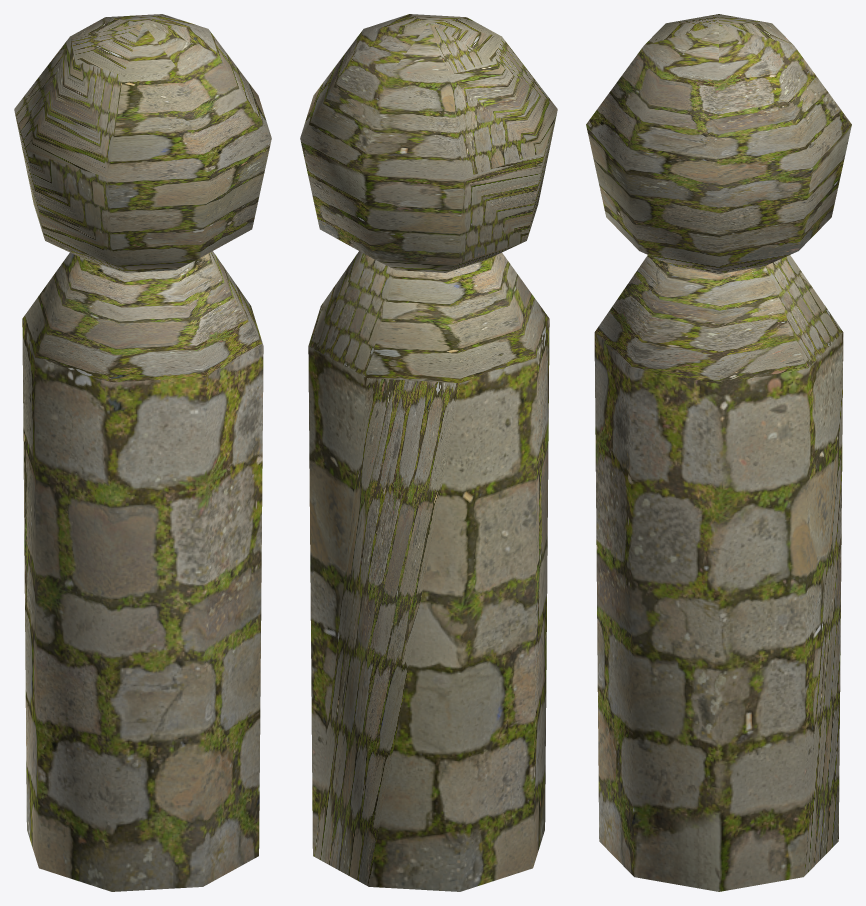
3 views of the same model, side by side, from view 1: azimuth 30°, elevation 25°; view 2: azimuth 150°, elevation 25°; view 3: azimuth 270°, elevation 25° (orthographic).
Parts seen in each view (by area): view 1: 棒; view 2: 棒; view 3: 棒.
Boxes of the visible parts, bbox=[...] form: 棒: bbox=[14, 14, 271, 891]; 棒: bbox=[300, 14, 557, 891]; 棒: bbox=[586, 14, 851, 891].
Size of the model in its own units: 212 by 212 by 758.
Materials: 1 (1 with a texture image).
